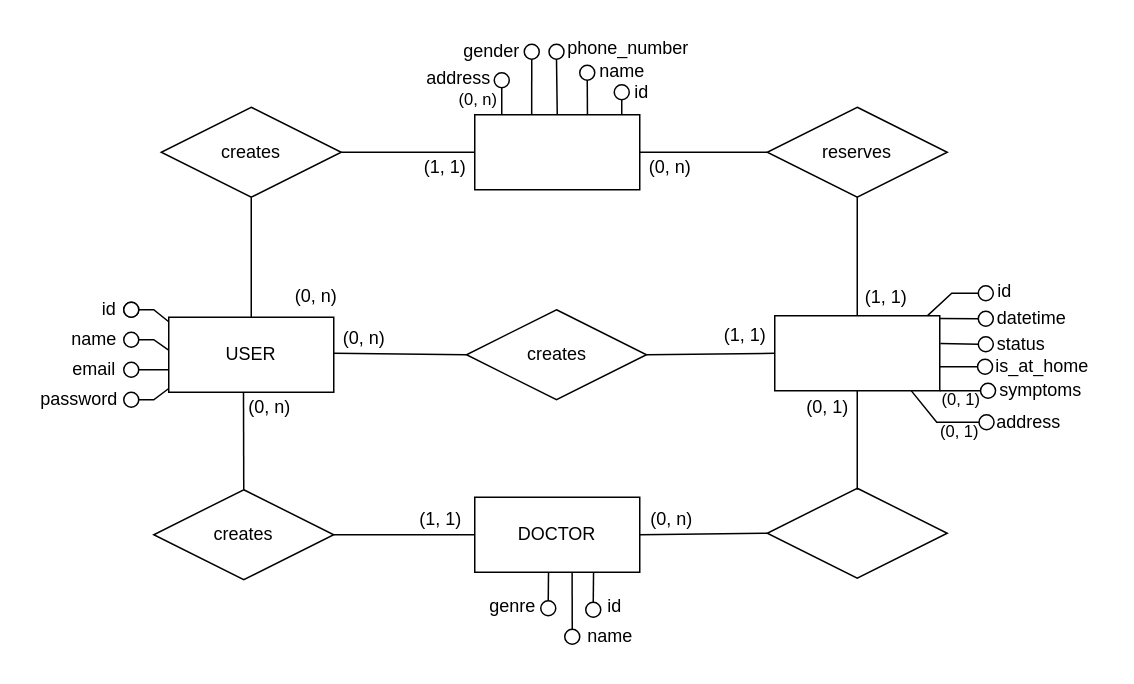
This 1134x684 diagram has some shape labels left out. Here are the shapes that lost their labels. From the top down, the box of each, then its label:
(473, 113, 640, 190): PATIENT
(773, 314, 940, 391): APPOINTMENT
(766, 487, 947, 578): is assigned
